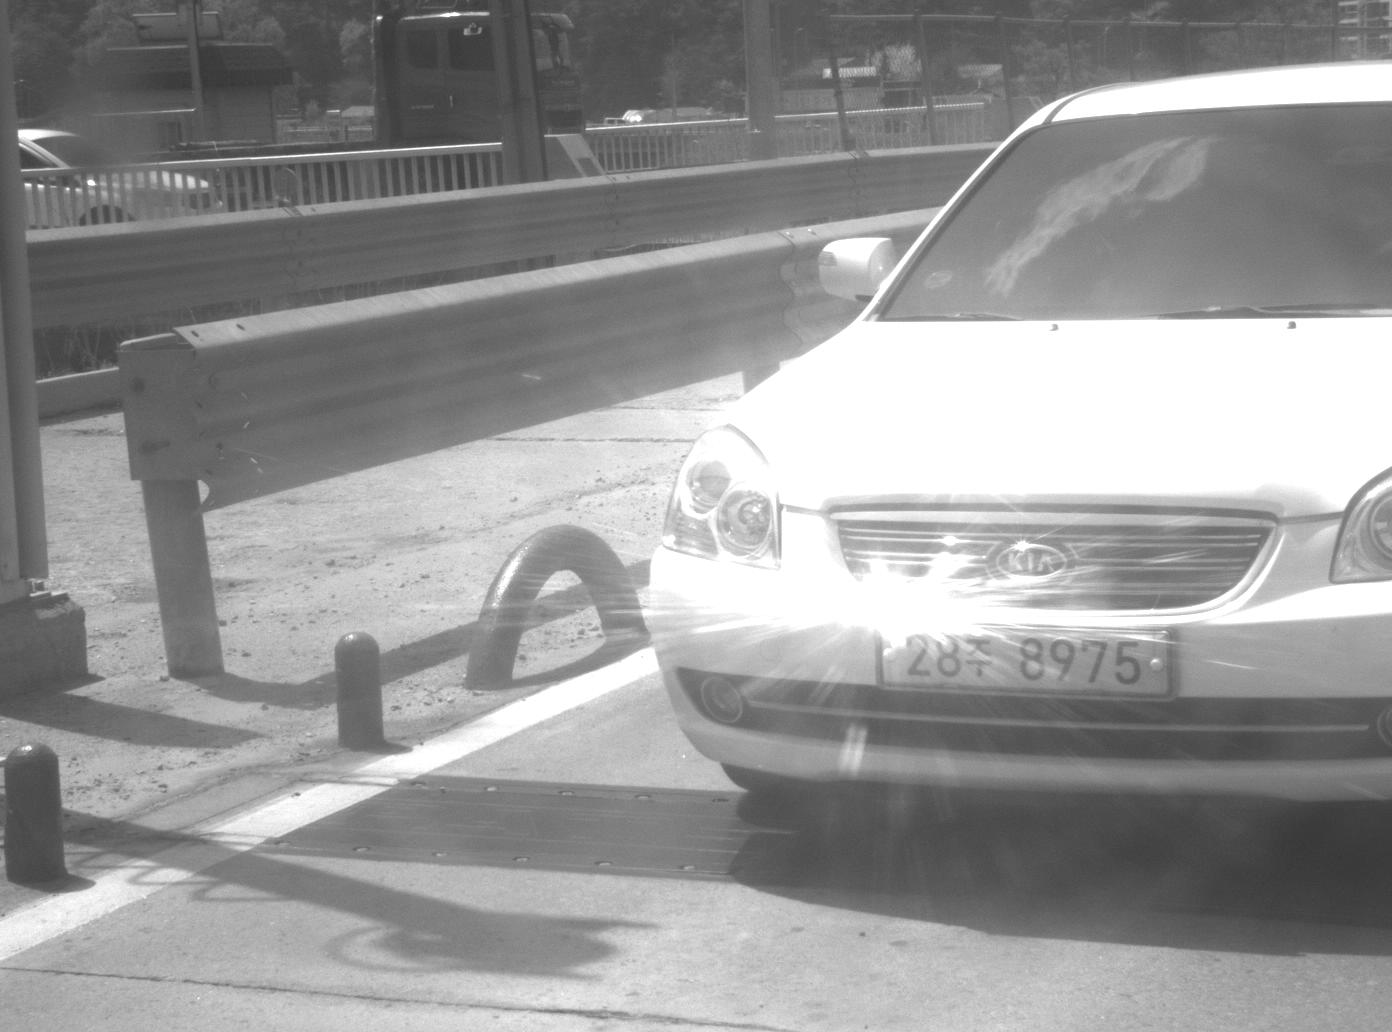car: (645, 62, 1392, 845), (10, 127, 221, 230)
plate: (870, 622, 1176, 697)
